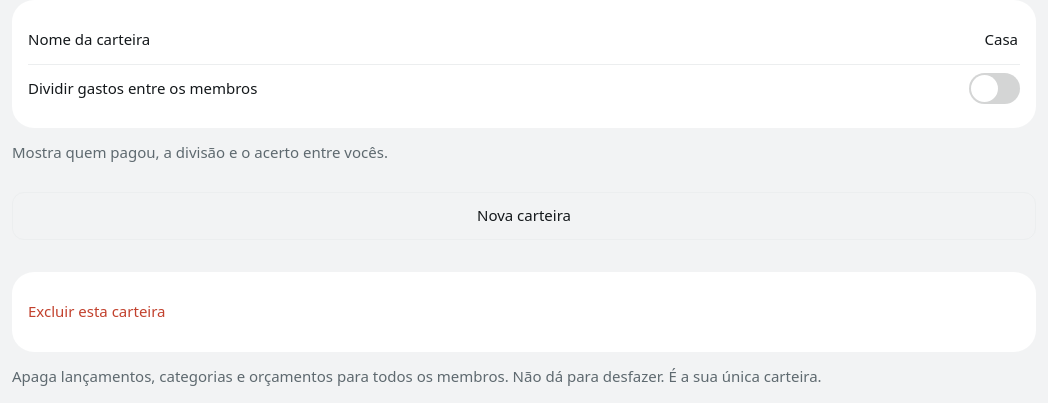
Wallet screen: a double click is not a confirmation › clicking Excluir esta carteira twice fast does not delete anything
Double-click the button "Excluir esta carteira": (97, 311) left=28, top=288, right=1020, bottom=336
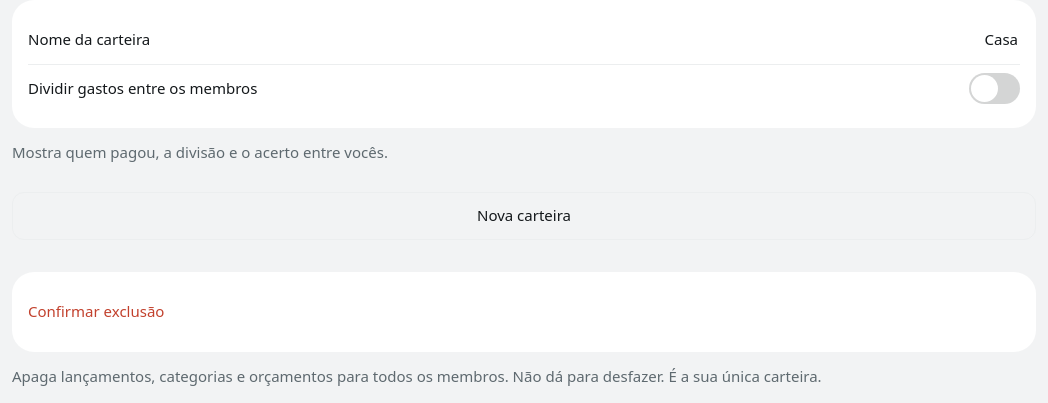
Now the button "Confirmar exclusão" is shown, box left=28, top=288, right=1020, bottom=336
